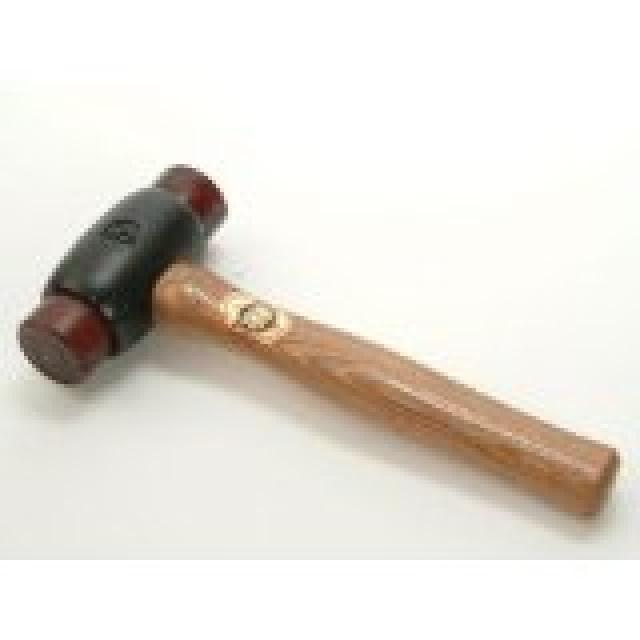hammer: (9, 153, 626, 527)
